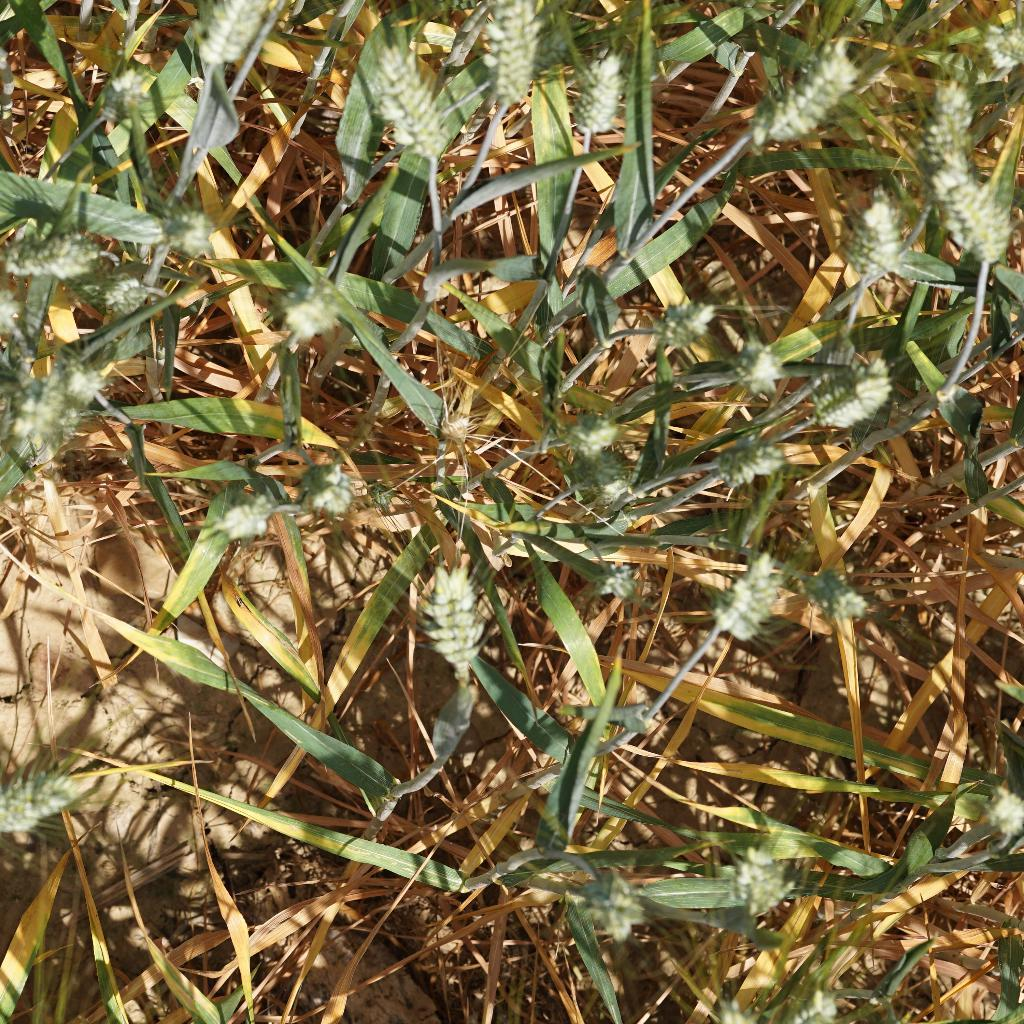0-0: (755, 38, 858, 148), (369, 44, 459, 167), (415, 555, 489, 691), (929, 167, 1020, 271), (470, 0, 552, 107), (565, 40, 635, 139), (843, 186, 914, 283), (0, 769, 93, 843), (709, 550, 788, 635), (814, 343, 889, 430), (273, 269, 355, 342), (185, 0, 275, 66), (585, 866, 660, 942), (8, 217, 104, 275), (955, 773, 1019, 860), (918, 73, 980, 159), (732, 840, 798, 916), (6, 370, 70, 447), (205, 482, 280, 544), (281, 451, 355, 512), (717, 433, 788, 492), (808, 557, 871, 621), (774, 964, 840, 1024), (965, 14, 1024, 81), (653, 295, 712, 361), (95, 62, 152, 128), (157, 198, 224, 253), (565, 407, 621, 468), (727, 333, 781, 393), (66, 346, 111, 413), (595, 559, 650, 613), (96, 266, 146, 324), (590, 468, 651, 511), (706, 991, 774, 1024), (0, 280, 33, 346), (428, 406, 474, 444), (867, 1000, 923, 1024)
